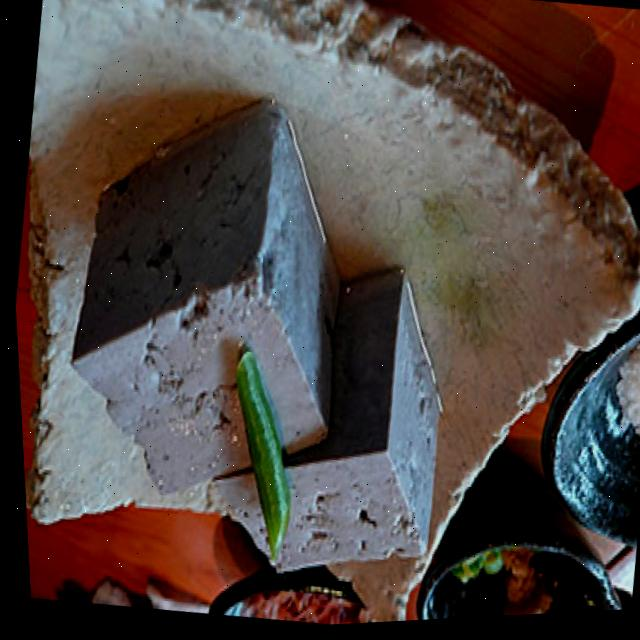豆腐料理: (21, 69, 484, 605)
